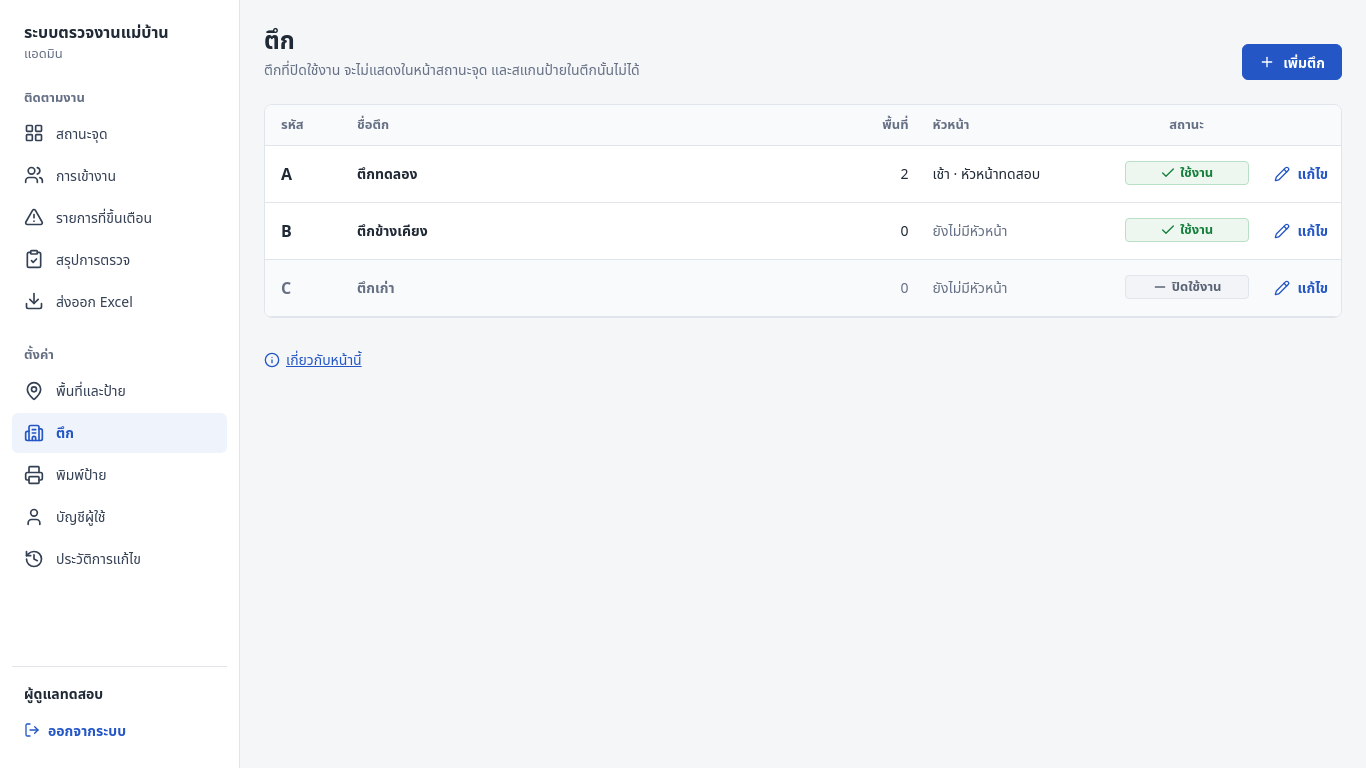
Test: setup Drawer pending dismissal › Building save preserves the draft through Escape/header dismissal and a failed request
Click the button with aria-label "แก้ไข ตึก A" at (1301, 174), box [1273, 156, 1329, 192]
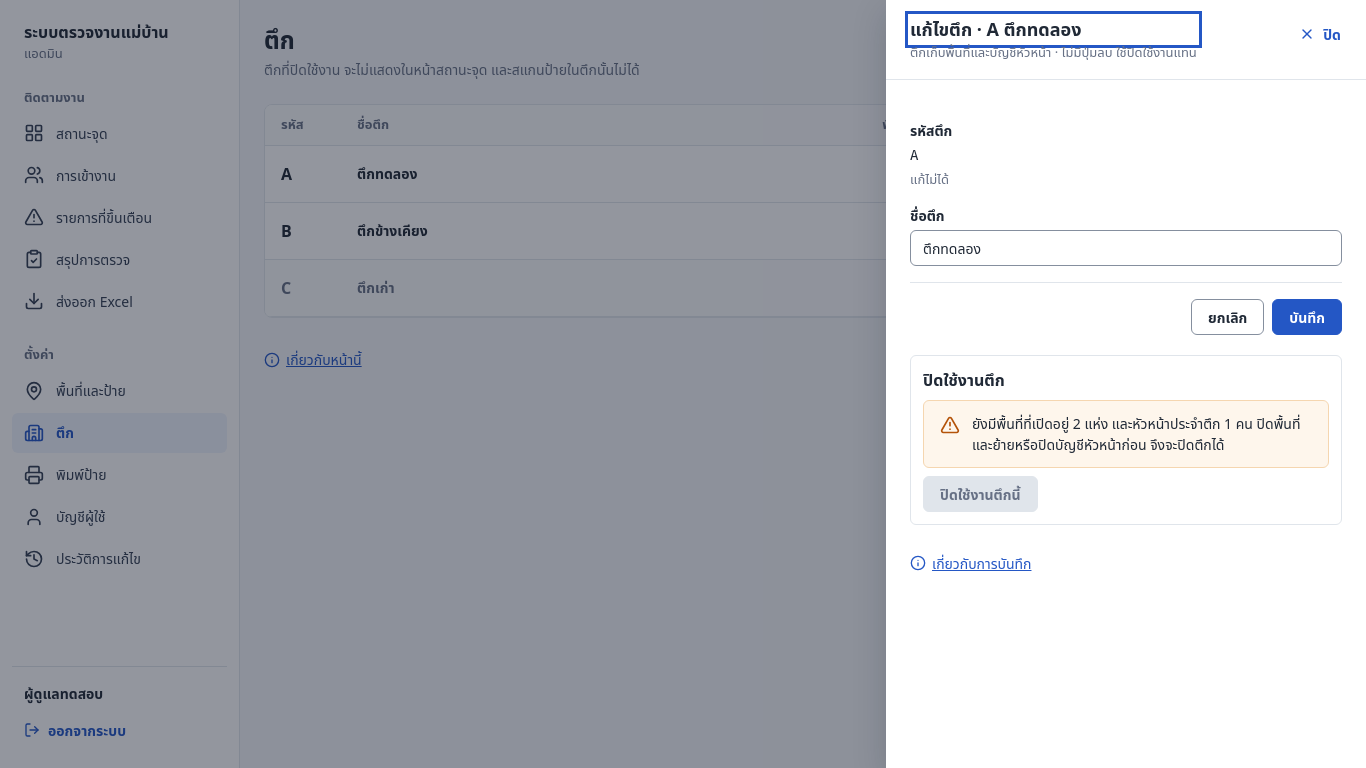
Replace the text in the field labelled "ชื่อตึก" with "ชื่อที่ยังไม่บันทึก" at (1126, 248), box [910, 230, 1342, 266]
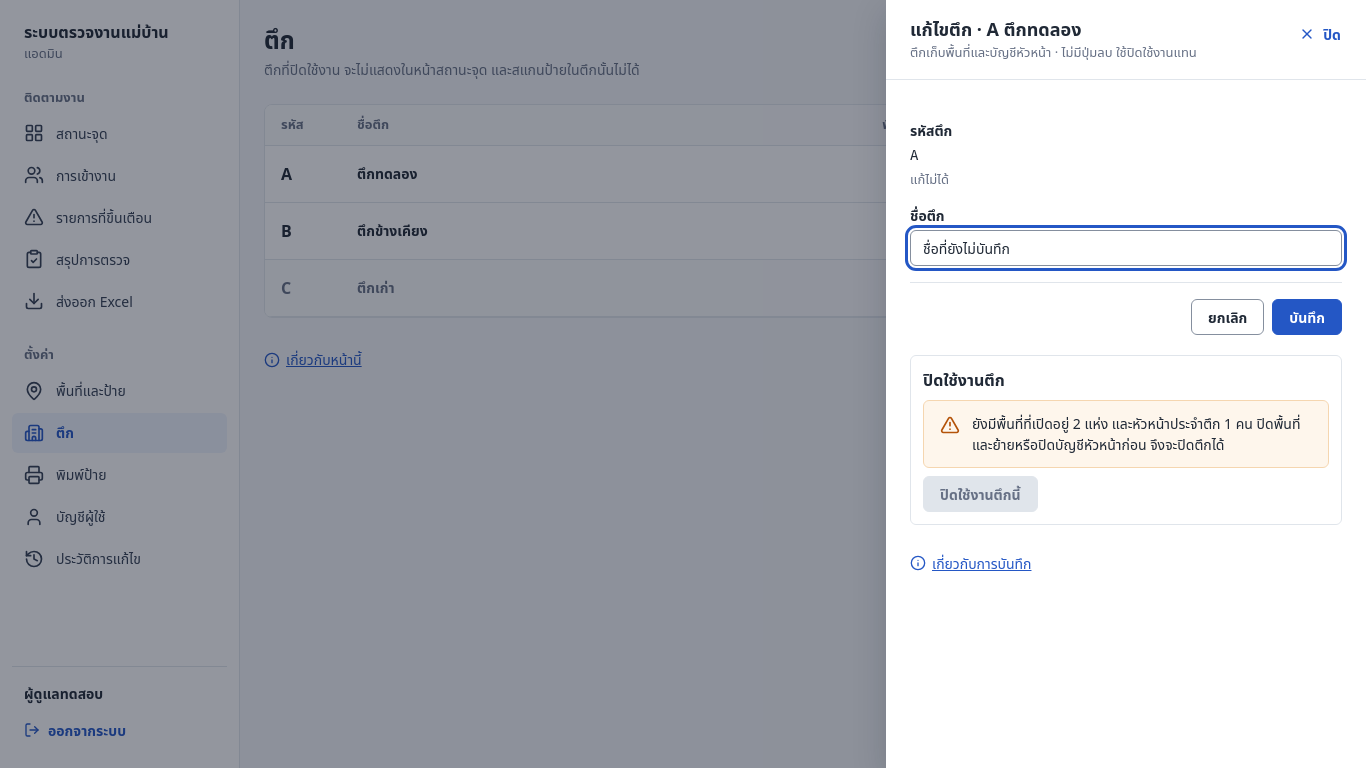
Click the button "บันทึก" at (1307, 317), box [1272, 299, 1342, 335]
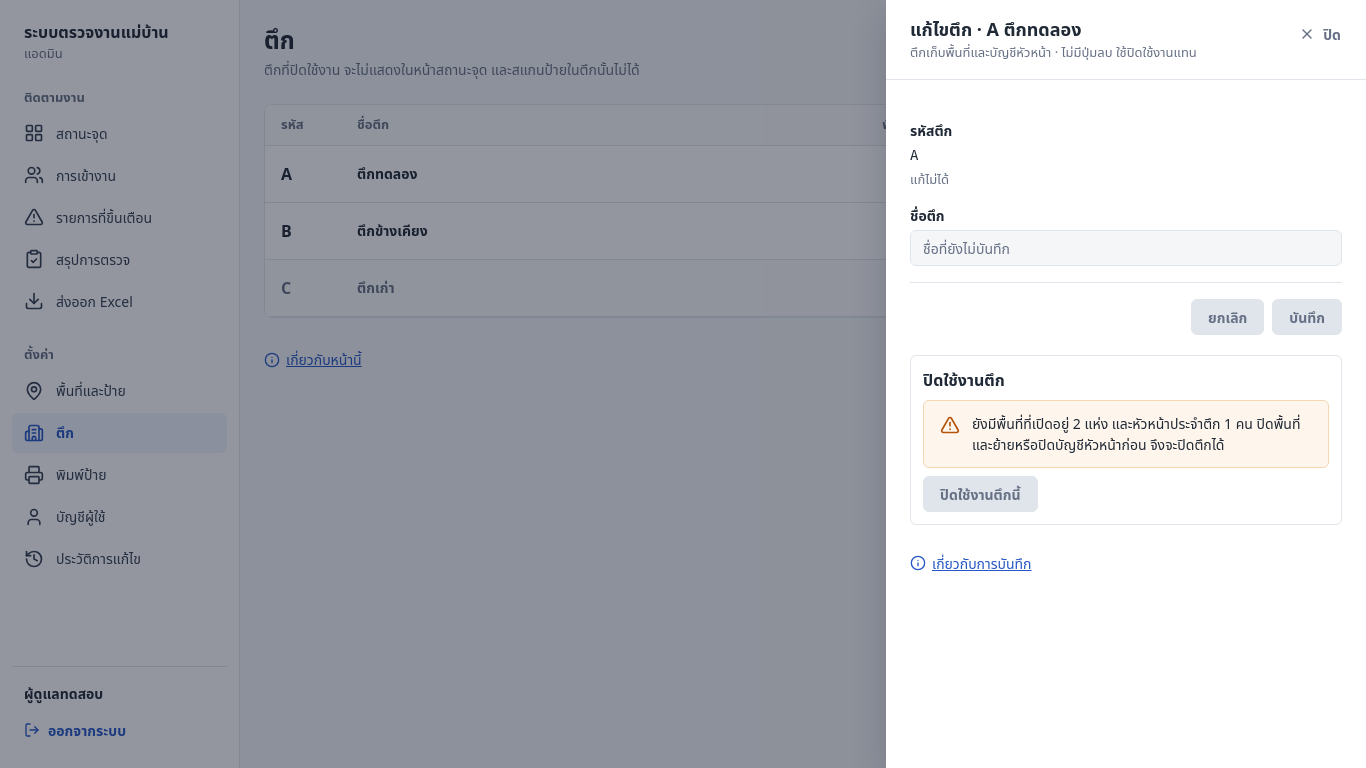
Press Escape in the dialog, box [886, 0, 1365, 767]
Result: the dialog is shown at [886, 0, 1365, 767]
Click the button "ปิด" at (1320, 34), box [1298, 16, 1342, 52]
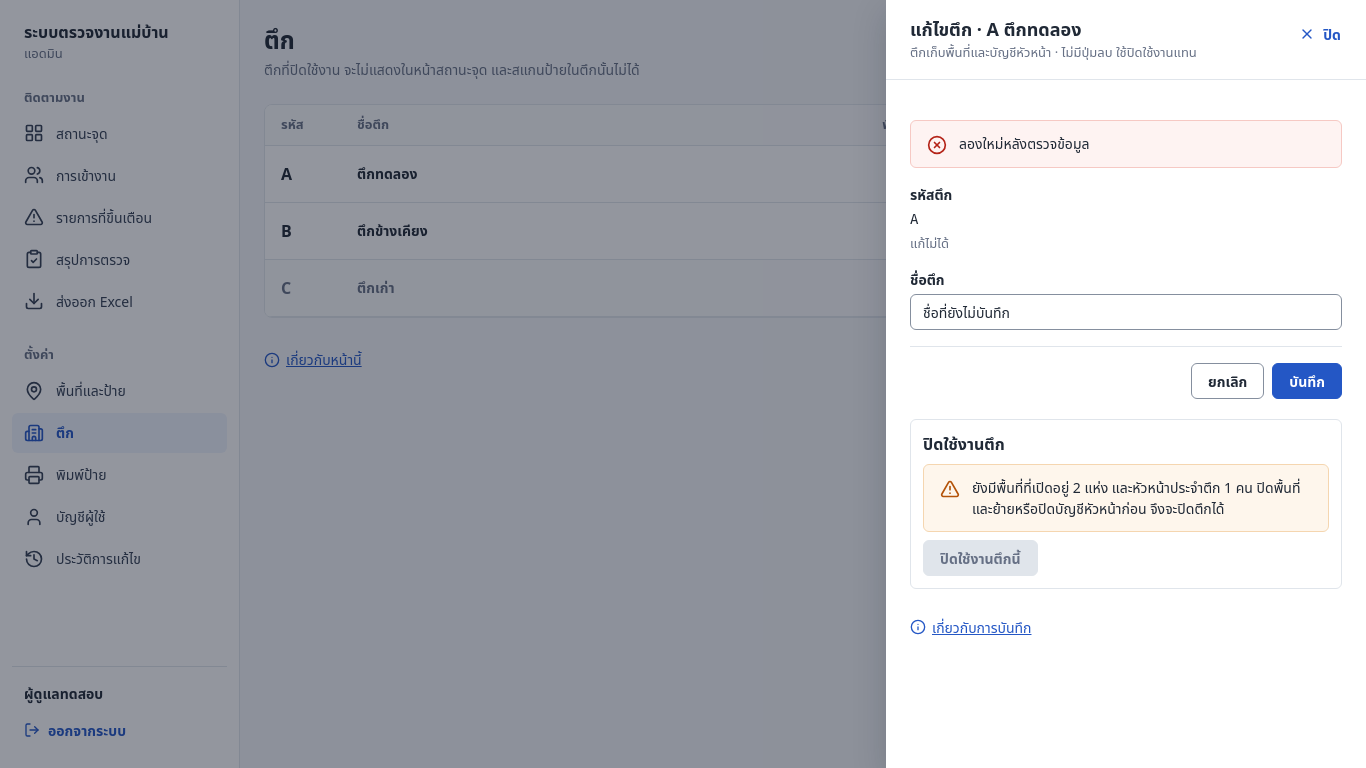
Result: the dialog is shown
Result: the text "ลองใหม่หลังตรวจข้อมูล" is shown at [959, 132, 1090, 154]
Press Escape in the dialog, box [886, 0, 1365, 767]
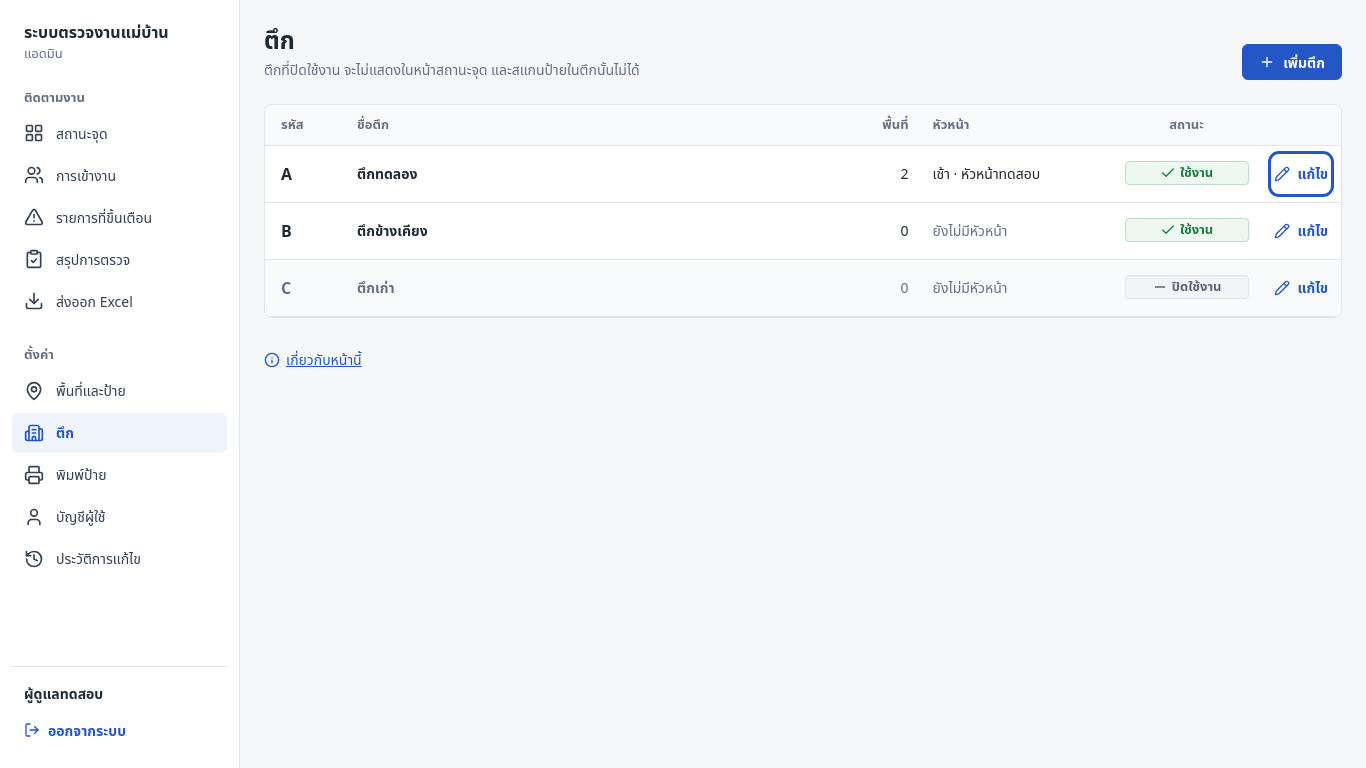
Result: the dialog is gone
